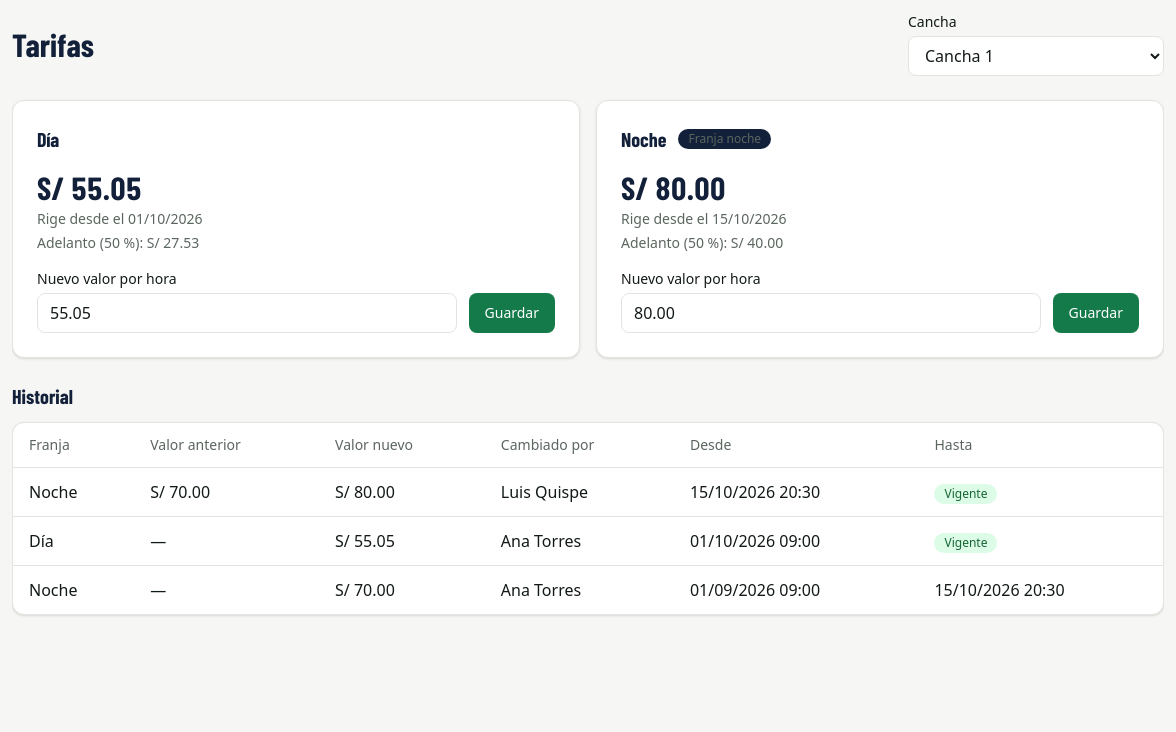
Pantalla de tarifas › no envía nada si el valor no es mayor que 0
Replace the text in the field labelled "Nuevo valor por hora" below "S/ 27.53" with "0" at (247, 313), box [37, 293, 456, 333]
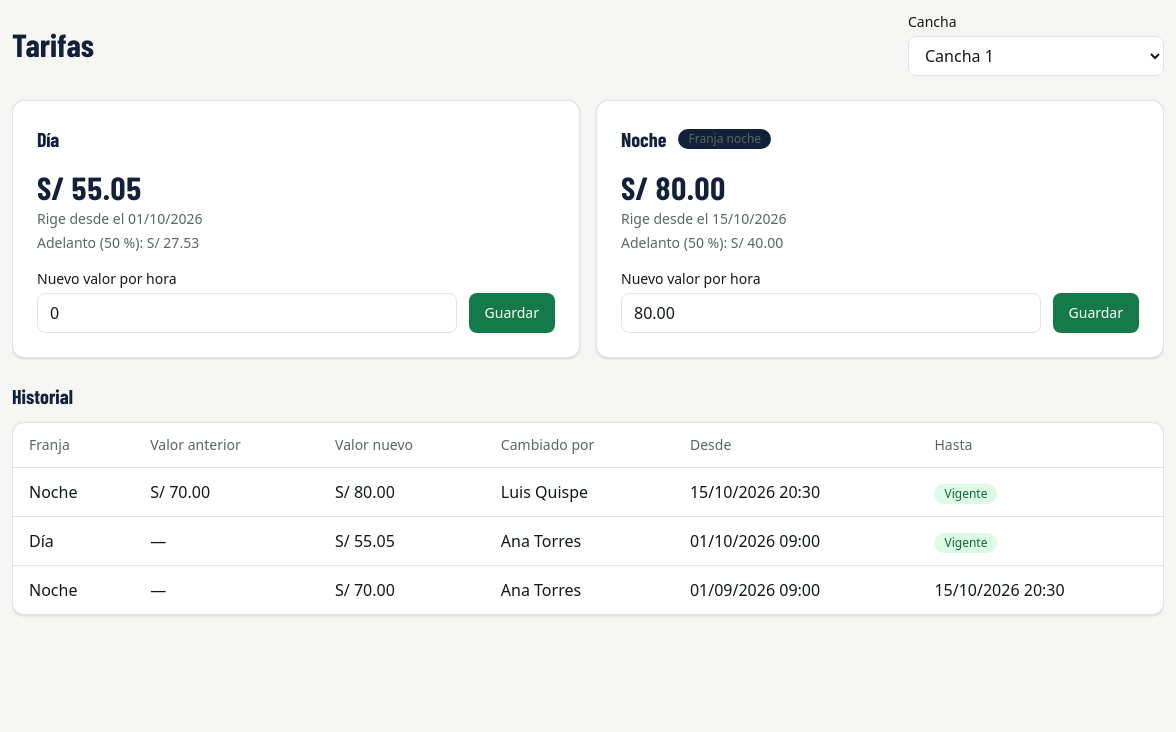
Click the 1st button "Guardar" at (512, 313), box [468, 293, 555, 333]
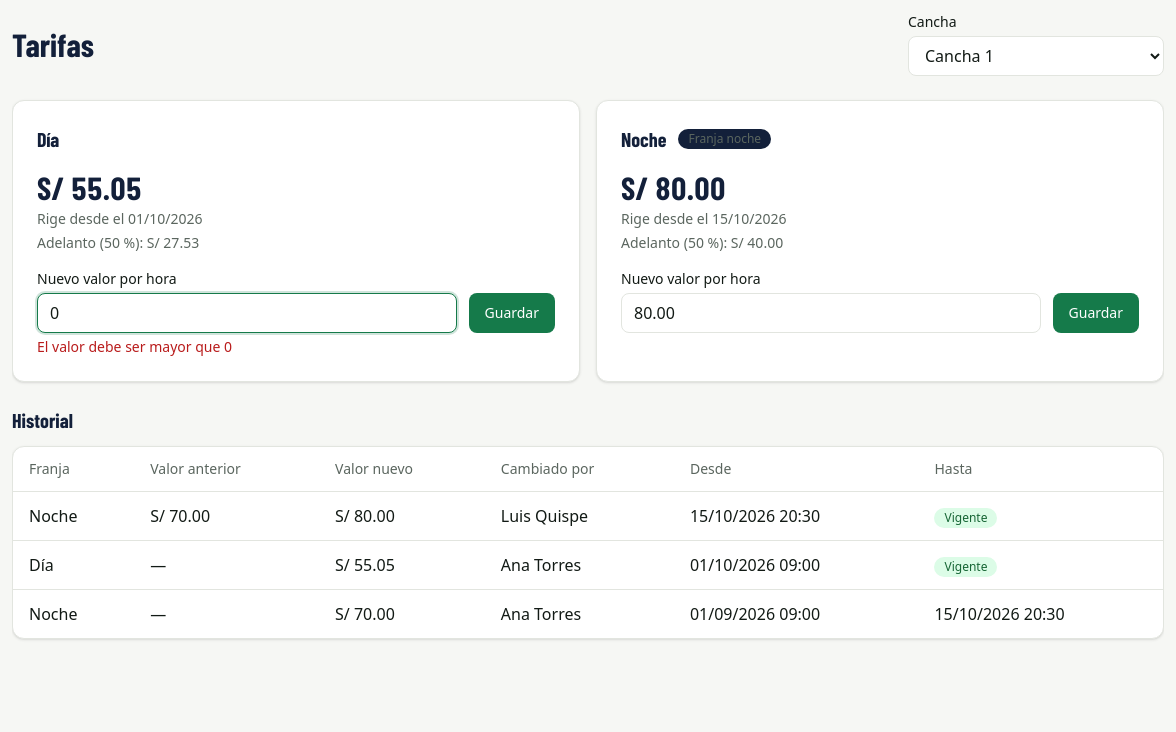
Expected: the text "El valor debe ser mayor que 0" is shown, [37, 337, 232, 356]
